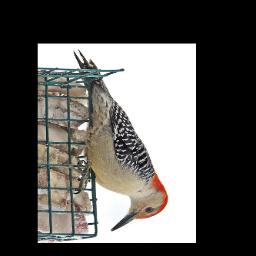Woodpecker: (72, 48, 168, 234)
